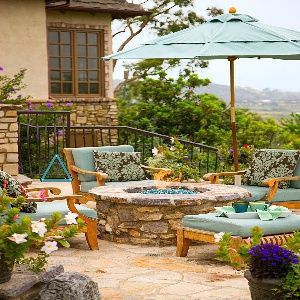triangle: (37, 151, 77, 184)
